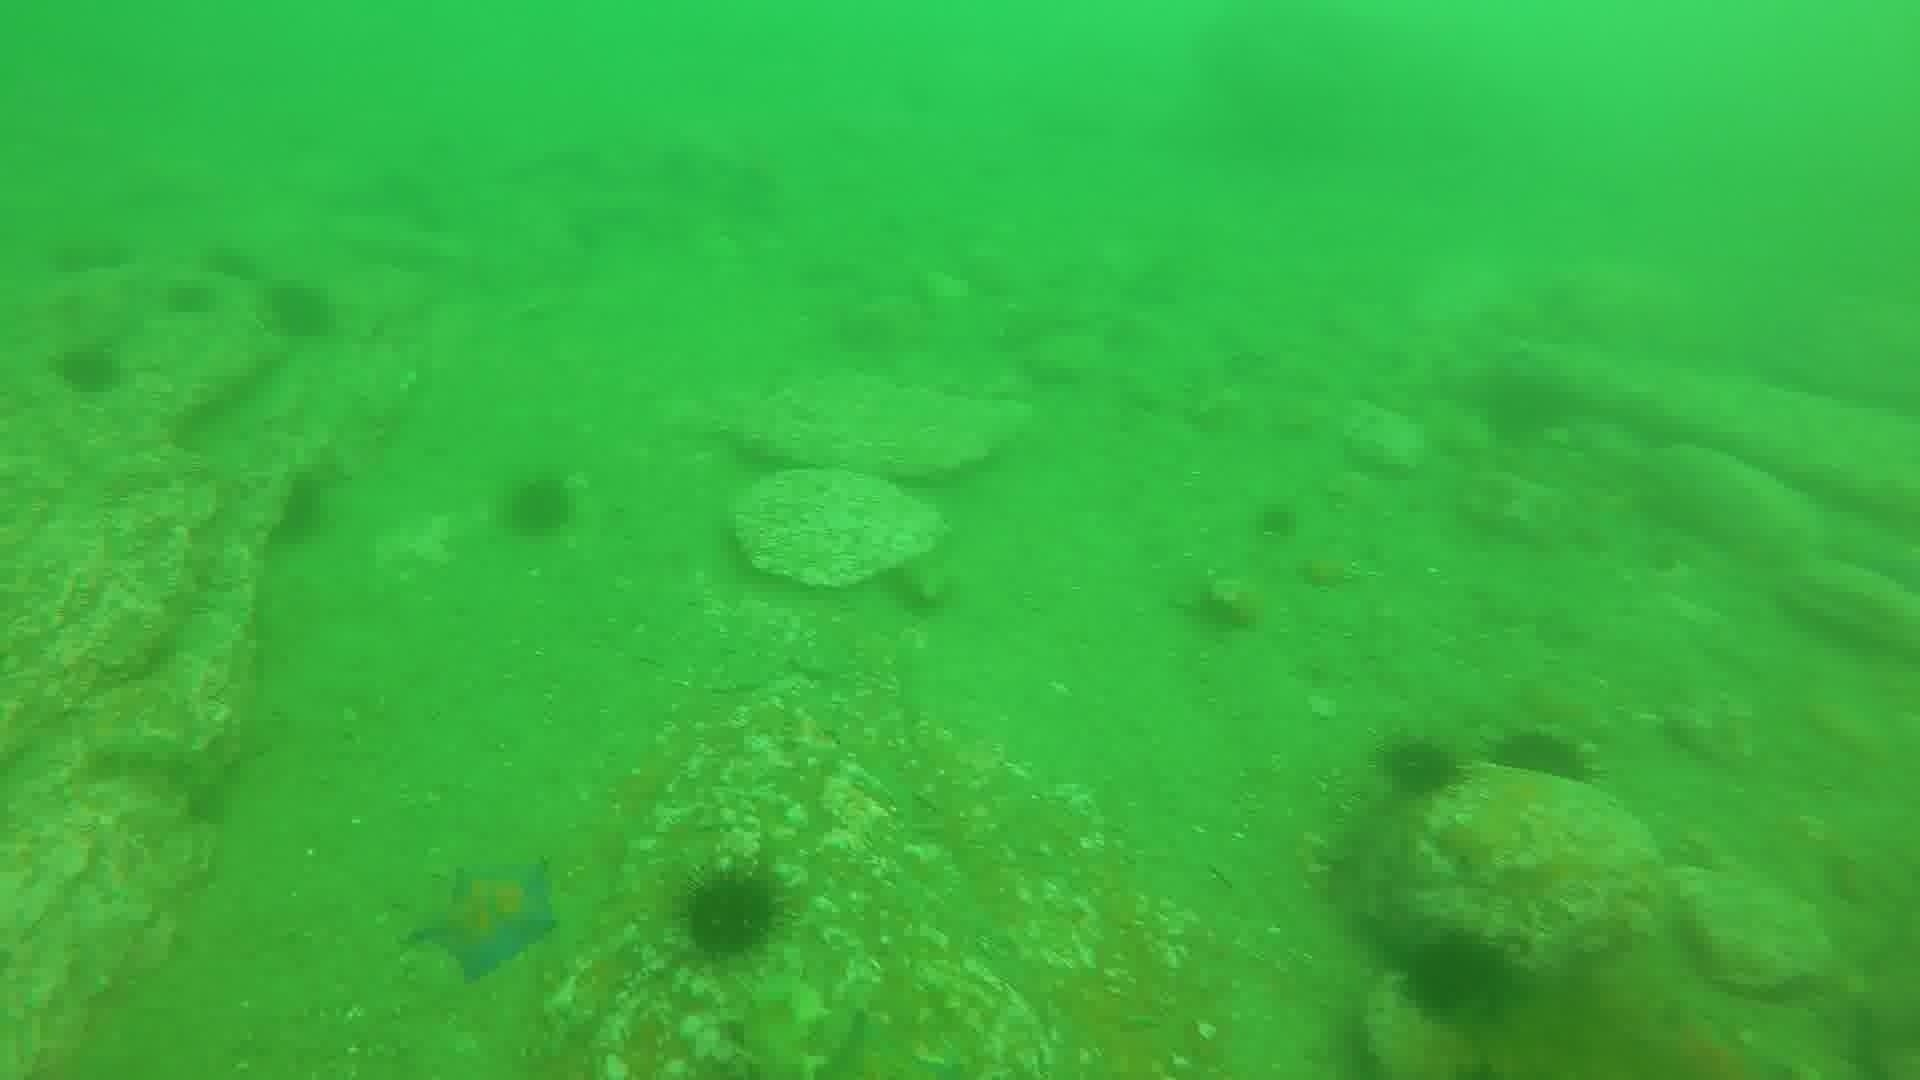echinus: (1396, 927, 1518, 1027), (675, 862, 789, 964), (1490, 723, 1596, 793), (1373, 731, 1466, 803), (498, 469, 579, 542), (266, 468, 336, 549), (258, 276, 339, 344), (49, 339, 127, 401), (1247, 496, 1304, 546), (160, 276, 220, 322)
holothurian: (729, 973, 841, 1080)
starfish: (406, 853, 562, 985), (816, 1004, 942, 1075)
